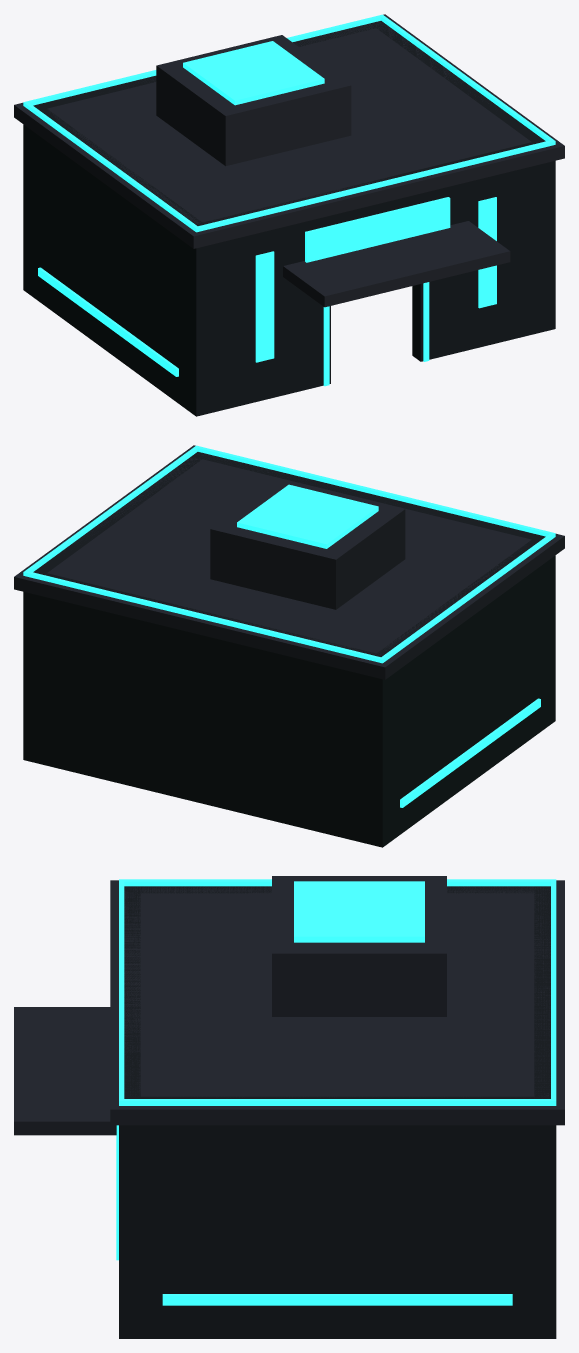
The model's file is shaddai_dist_grid_b2_v01.glb.
3 renders of one model, top to bottom at view 1: azimuth 30°, elevation 25°; view 2: azimuth 150°, elevation 25°; view 3: azimuth 270°, elevation 25°, orthographic. The views are drawn at different scales.
Visible parts, largest first — view 1: shaddai_dist_grid_b2; view 2: shaddai_dist_grid_b2; view 3: shaddai_dist_grid_b2.
Part boxes in pixels (left/top/right/bottom): shaddai_dist_grid_b2: left=14, top=14, right=564, bottom=416; shaddai_dist_grid_b2: left=14, top=445, right=564, bottom=847; shaddai_dist_grid_b2: left=14, top=876, right=564, bottom=1338.
Size of the model in its own units: 12.4 by 7.63 by 12.6.
